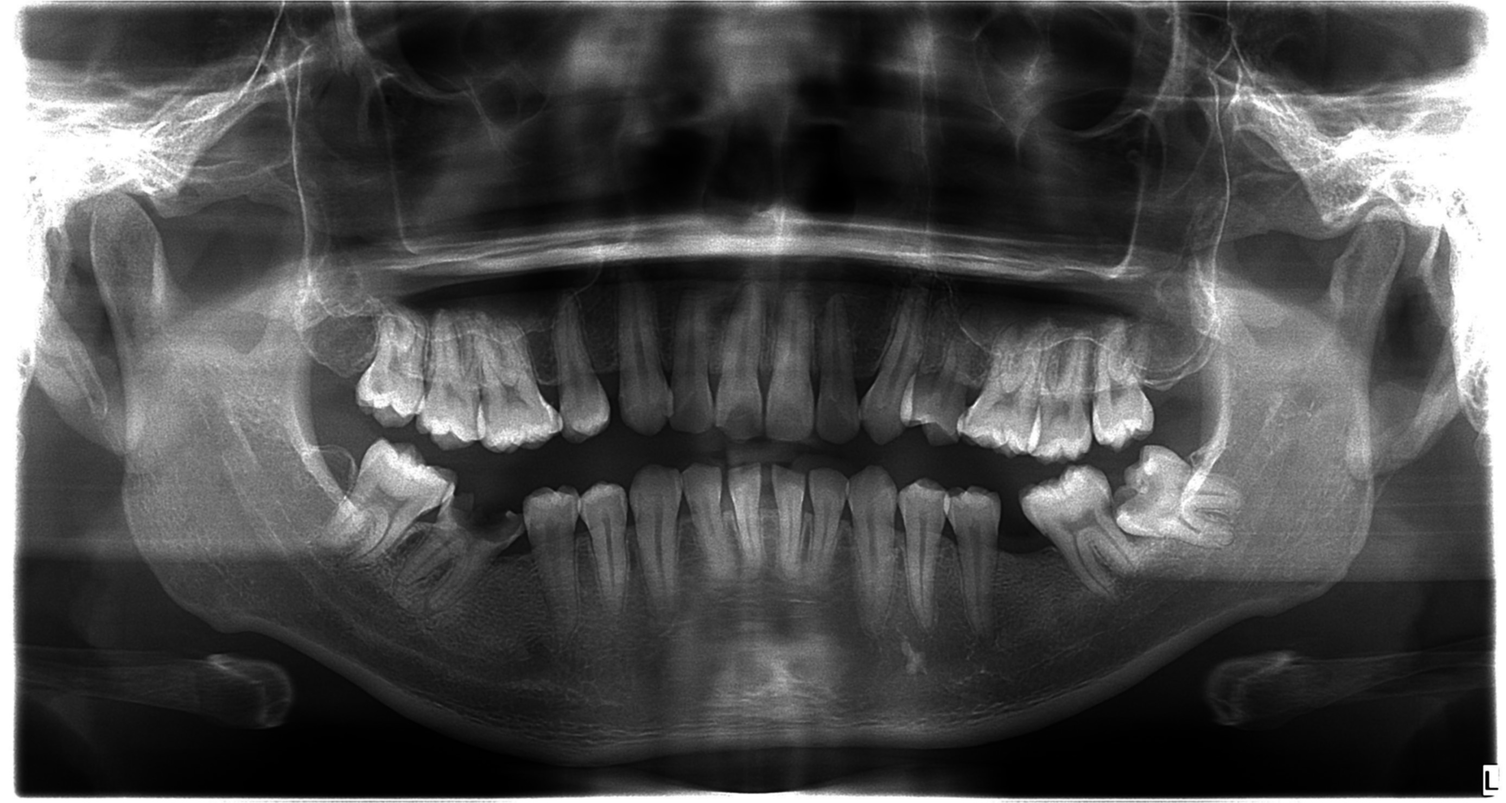Individual Tooth: (321, 440, 454, 556), (1020, 466, 1134, 594), (901, 295, 994, 444), (407, 494, 524, 610), (1114, 445, 1241, 547), (1014, 335, 1104, 462), (477, 326, 562, 451), (957, 336, 1043, 455), (861, 291, 927, 444), (417, 313, 482, 449), (551, 297, 611, 442), (524, 487, 583, 632), (848, 467, 899, 633), (618, 282, 673, 435), (1090, 322, 1154, 450), (355, 311, 426, 426), (945, 487, 999, 633), (716, 283, 766, 440), (765, 284, 815, 441), (899, 479, 947, 628), (630, 466, 683, 600), (815, 294, 860, 443), (578, 483, 629, 607), (671, 294, 715, 432), (682, 463, 726, 565), (805, 469, 848, 573), (772, 466, 806, 578), (728, 464, 763, 566)
